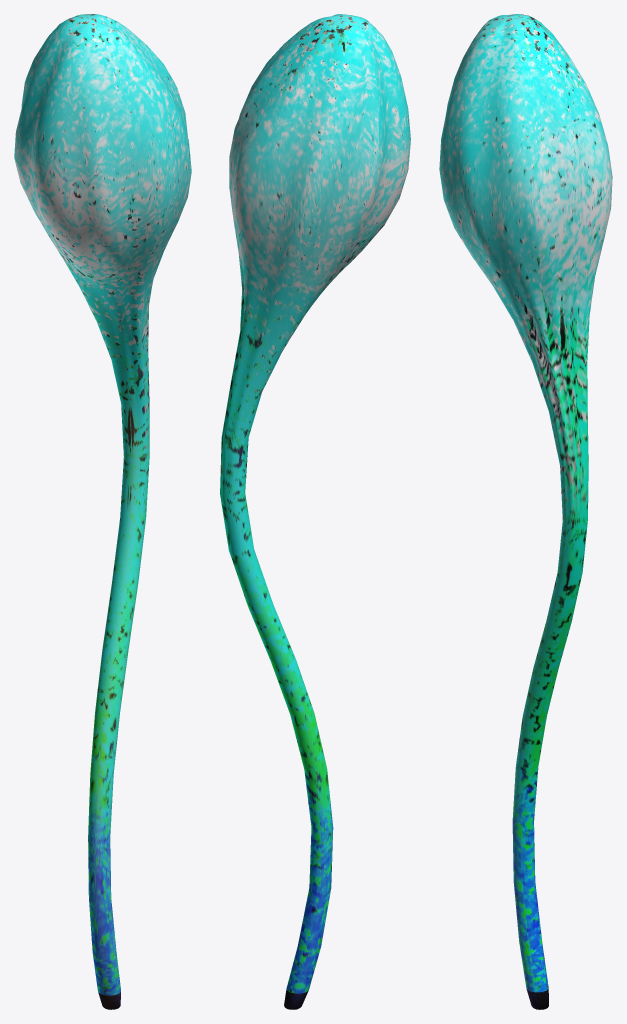
File: sprooms_small.fbx
The picture shows the model from 3 angles, left to right: view 1: azimuth 30°, elevation 25°; view 2: azimuth 150°, elevation 25°; view 3: azimuth 270°, elevation 25°; orthographic projection. The views are drawn at different scales.
Parts seen in each view (by area): view 1: sprooms.002; view 2: sprooms.002; view 3: sprooms.002.
Part boxes in pixels (x1,y1,x2,y2): sprooms.002: [14, 14, 191, 1009]; sprooms.002: [220, 14, 410, 1009]; sprooms.002: [439, 14, 612, 1009].
Size of the model in its own units: 3.42 by 20.59 by 3.32.
